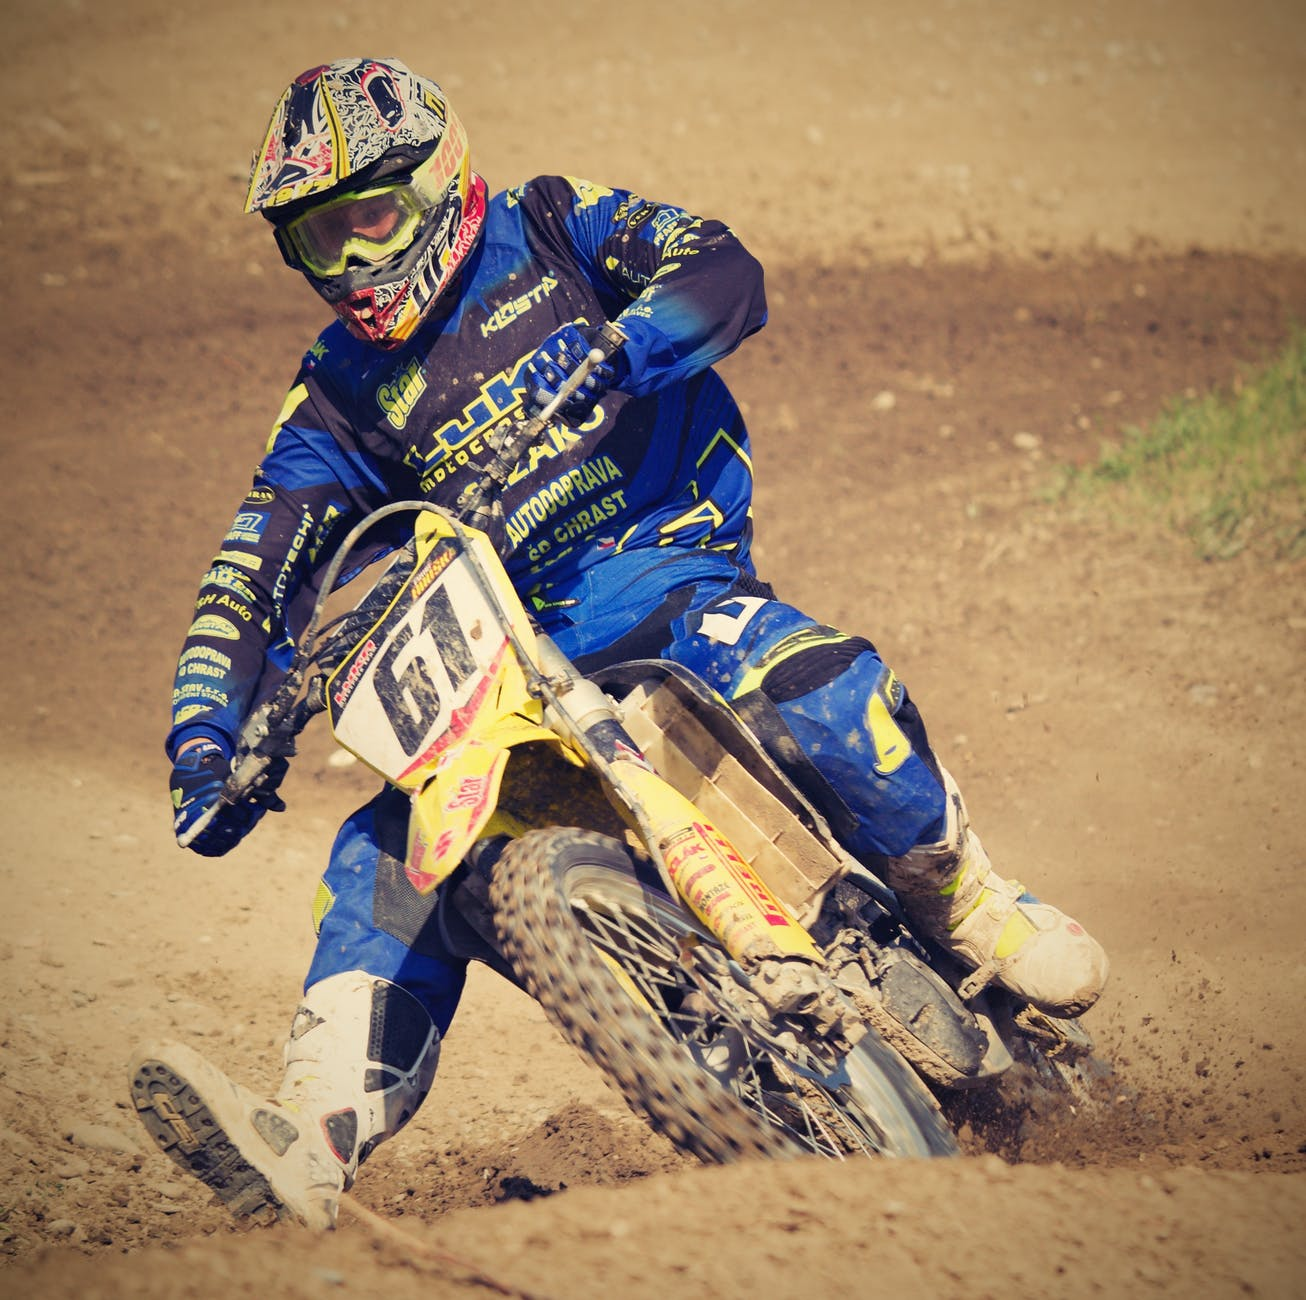helmet: (274, 61, 465, 346)
